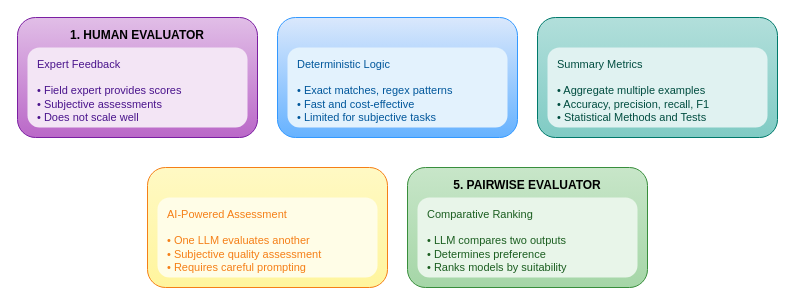
Some shapes in this 795 by 305 pixel diagram are drawn without their labels. The shapes that lost their labels are listed below. From the top down, each one's box as (x1, y1, x2, y2) in pixels, then its label:
(276, 16, 518, 138): 2. RULE-BASED EVALUATOR
(536, 16, 778, 138): 3. STATISTICAL EVALUATOR
(146, 166, 388, 288): 4. LLM AS A JUDGE
